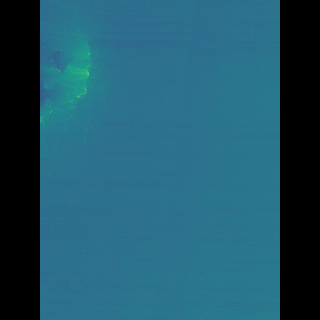Loch: (69, 14, 152, 151)
